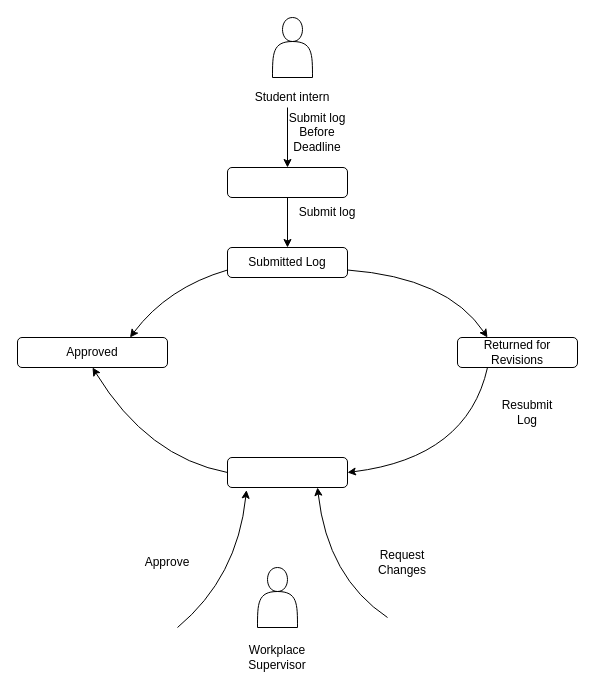
The diagram is 595 pixels wide and 689 high, and some of its shapes have lost their labels. The centre of each missing label's shape, as x and y in pixels:
Draft log: the point at 287,182
Final sign off: the point at 287,472
